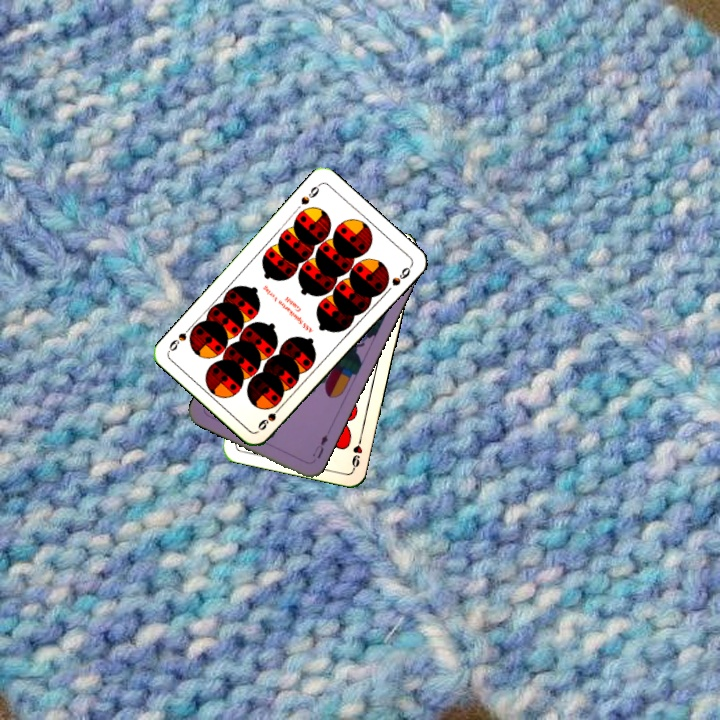EU: (308, 430, 331, 461)
H9: (348, 432, 365, 472)
S9: (254, 400, 286, 433), (297, 180, 323, 207)
